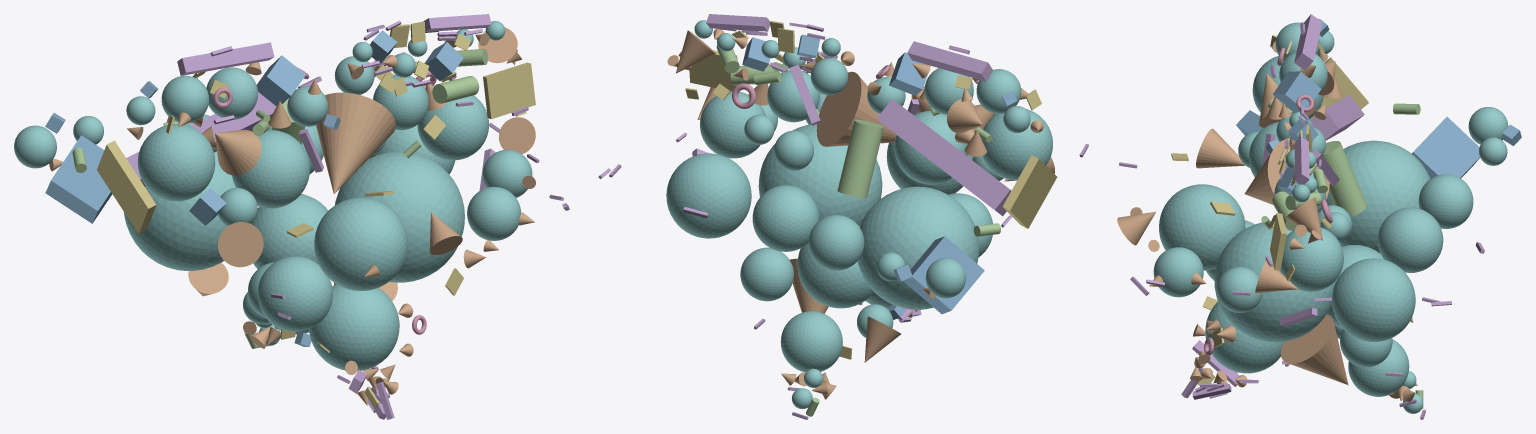
File: medium_chained_assembly.glb
The picture shows the model from 3 angles, left to right: view 1: azimuth 30°, elevation 25°; view 2: azimuth 150°, elevation 25°; view 3: azimuth 270°, elevation 25°; orthographic projection. The views are drawn at different scales.
Parts seen in each view (by area): view 1: obj_0000_sphere, obj_0010_sphere, obj_0007_sphere, obj_0011_sphere, obj_0001_sphere, obj_0032_cone, obj_0016_sphere, obj_0034_sphere, obj_0003_sphere, obj_0006_sphere, obj_0002_cube, obj_0039_plate (+27 smaller); view 2: obj_0011_sphere, obj_0023_sphere, obj_0000_sphere, obj_0047_rod, obj_0019_sphere, obj_0001_sphere, obj_0018_sphere, obj_0032_cone, obj_0006_sphere, obj_0003_sphere, obj_0058_sphere, obj_0073_cylinder (+27 smaller); view 3: obj_0000_sphere, obj_0011_sphere, obj_0023_sphere, obj_0010_sphere, obj_0019_sphere, obj_0006_sphere, obj_0002_cube, obj_0044_cone, obj_0007_sphere, obj_0058_sphere, obj_0018_sphere, obj_0054_sphere (+27 smaller).
Boxes of the visible parts, x1,y1,x2,y2 form: obj_0000_sphere: (334,151,464,282); obj_0010_sphere: (314,197,407,290); obj_0007_sphere: (309,284,399,371); obj_0011_sphere: (124,151,251,270); obj_0001_sphere: (137,124,215,201); obj_0032_cone: (316,92,395,193); obj_0016_sphere: (257,256,332,331); obj_0034_sphere: (232,130,309,208); obj_0003_sphere: (252,194,328,269); obj_0006_sphere: (417,95,488,160); obj_0002_cube: (45,135,112,223); obj_0039_plate: (97,140,156,233); obj_0011_sphere: (857,186,979,309); obj_0023_sphere: (666,153,751,238); obj_0000_sphere: (758,124,882,225); obj_0047_rod: (876,99,1011,216); obj_0019_sphere: (752,185,818,251); obj_0001_sphere: (981,109,1052,180); obj_0018_sphere: (780,311,842,372); obj_0032_cone: (816,71,896,146); obj_0006_sphere: (700,91,765,158); obj_0003_sphere: (797,225,874,308); obj_0058_sphere: (808,215,864,270); obj_0073_cylinder: (837,119,883,198); obj_0000_sphere: (1214,221,1335,342); obj_0011_sphere: (1326,140,1430,253); obj_0023_sphere: (1332,258,1415,341); obj_0010_sphere: (1159,184,1245,270); obj_0019_sphere: (1377,207,1443,272); obj_0006_sphere: (1280,227,1343,291); obj_0002_cube: (1411,116,1479,178); obj_0044_cone: (1280,314,1348,385); obj_0007_sphere: (1205,302,1283,373); obj_0058_sphere: (1418,174,1473,228); obj_0018_sphere: (1348,339,1409,396); obj_0054_sphere: (1153,247,1203,297).
Bounding box in the file's own units: 1.92 × 1.67 × 1.78.
